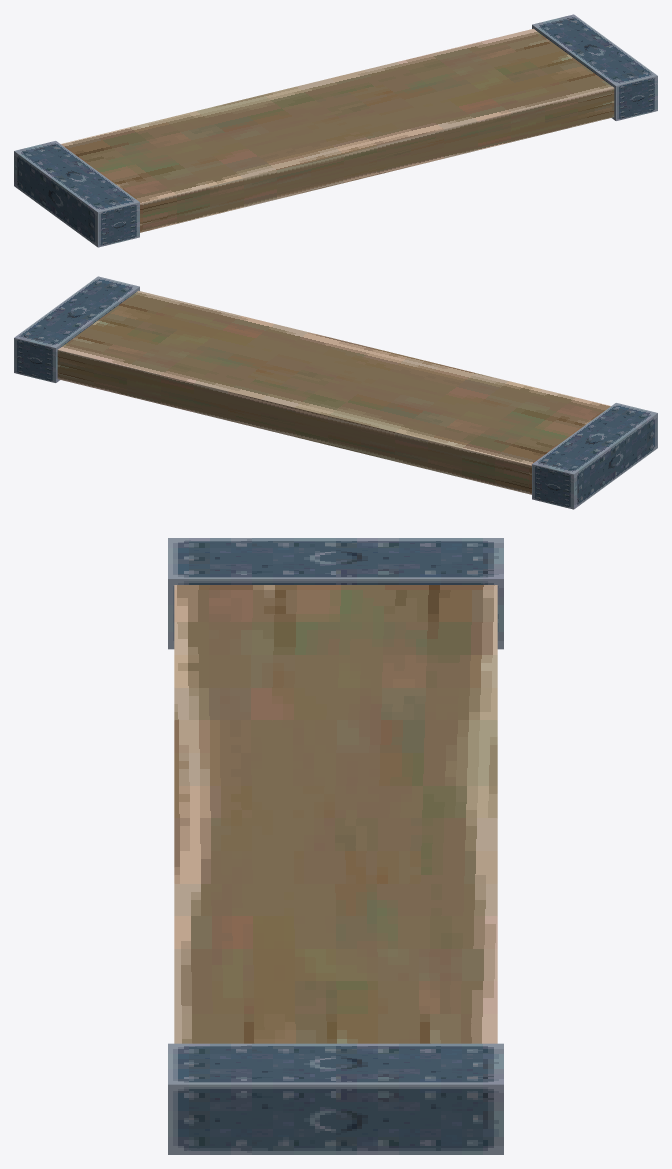
The model's file is Bridge.fbx.
3 views of the same model, one above another, from view 1: azimuth 30°, elevation 25°; view 2: azimuth 150°, elevation 25°; view 3: azimuth 270°, elevation 25° (orthographic). The views are drawn at different scales.
Visible parts, largest first — view 1: n0b0; view 2: n0b0; view 3: n0b0.
Boxes of the visible parts, x1,y1,x2,y2 form: n0b0: (14, 14, 657, 247); n0b0: (14, 276, 657, 509); n0b0: (168, 538, 503, 1154).
Size of the model in its own units: 508 by 30.48 by 132.
1 material, 1 textured.
